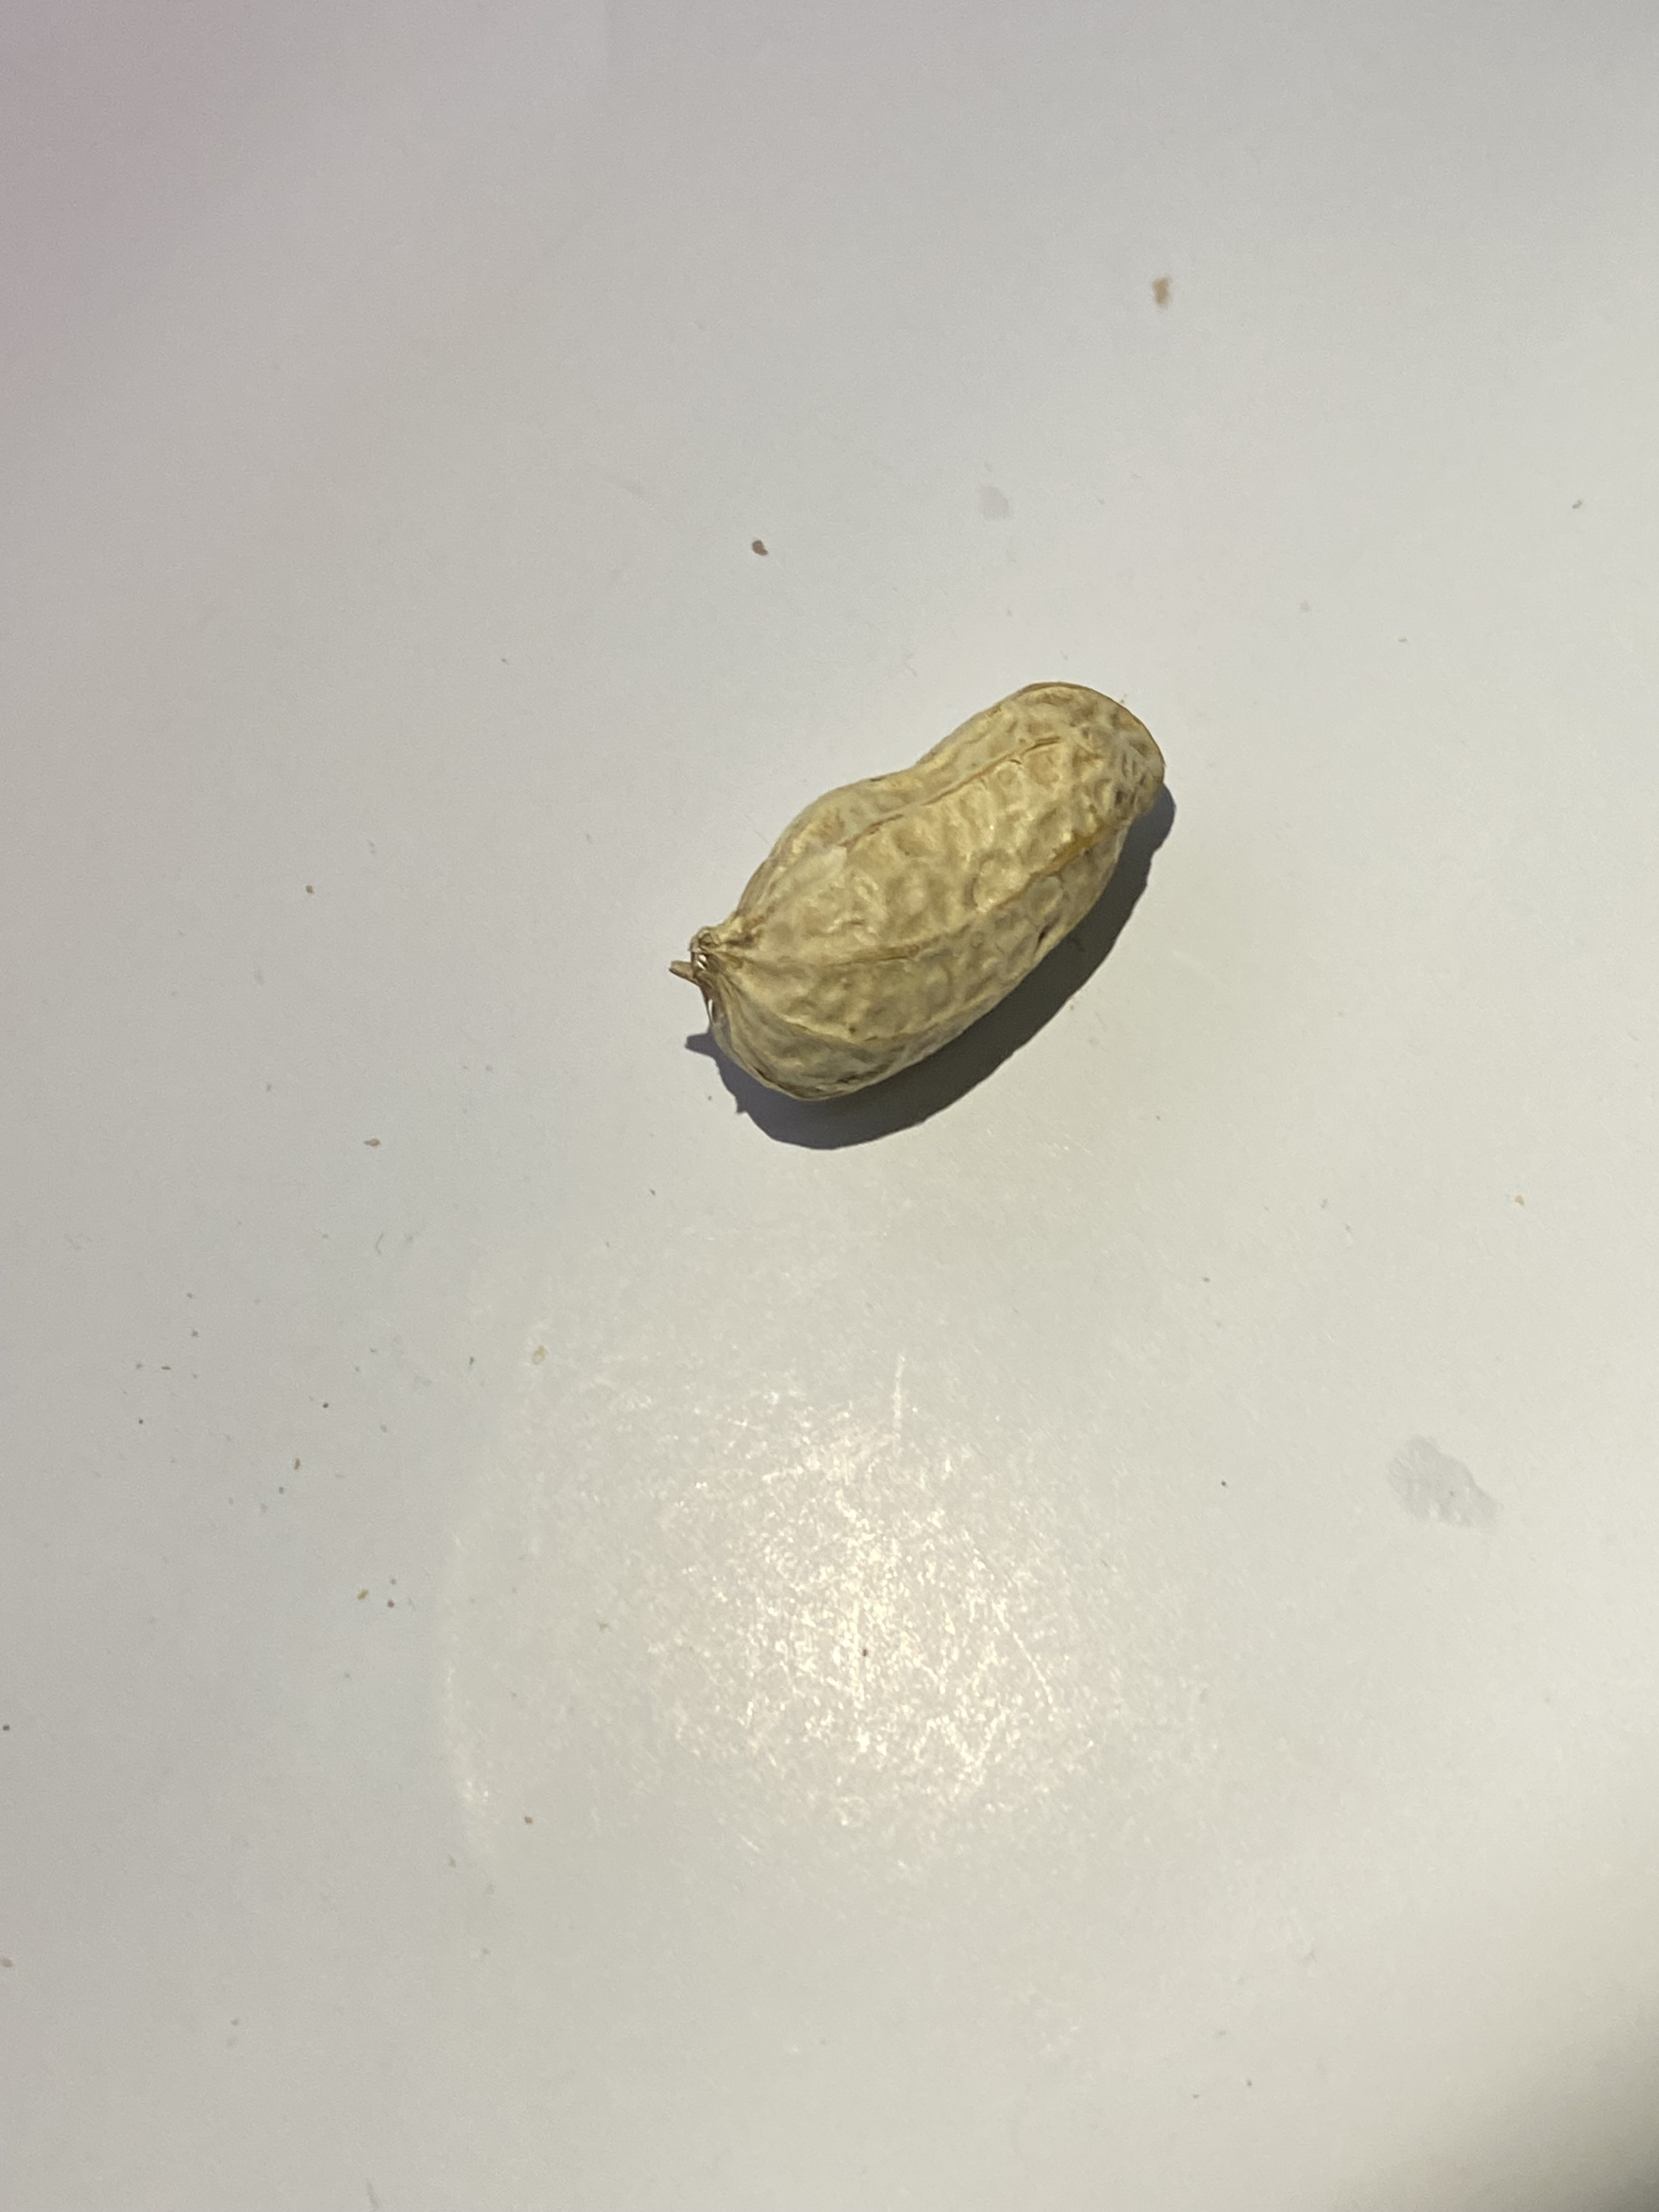kacang2: (676, 678, 1188, 1130)
